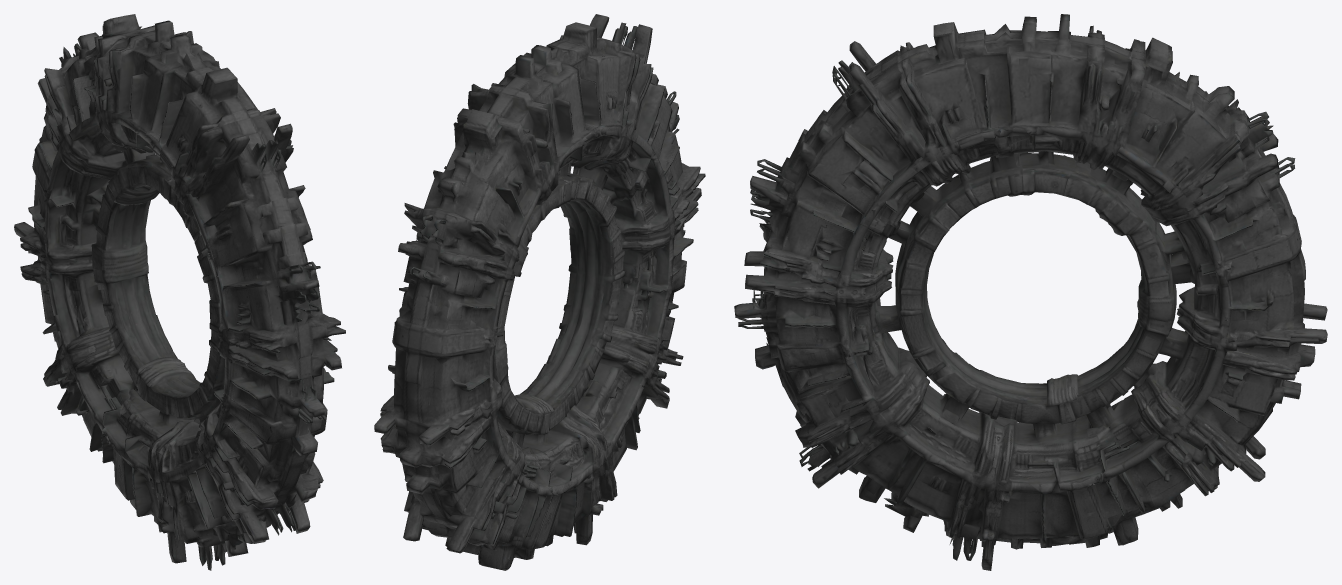
The model's file is Puerta2.glb.
3 renders of one model, left to right at view 1: azimuth 30°, elevation 25°; view 2: azimuth 150°, elevation 25°; view 3: azimuth 270°, elevation 25°, orthographic. The views are drawn at different scales.
Visible parts, largest first — view 1: tripo_node_ec150e46-e1cd-48de-bd0a-6779de27fc6d; view 2: tripo_node_ec150e46-e1cd-48de-bd0a-6779de27fc6d; view 3: tripo_node_ec150e46-e1cd-48de-bd0a-6779de27fc6d.
Part boxes in pixels (box(x1,y1,x2,y2)): tripo_node_ec150e46-e1cd-48de-bd0a-6779de27fc6d: box(14, 14, 345, 570); tripo_node_ec150e46-e1cd-48de-bd0a-6779de27fc6d: box(374, 14, 705, 570); tripo_node_ec150e46-e1cd-48de-bd0a-6779de27fc6d: box(734, 14, 1327, 570).
Size of the model in its own units: 0.1844 by 0.9817 by 0.975.
1 material, 1 textured.
